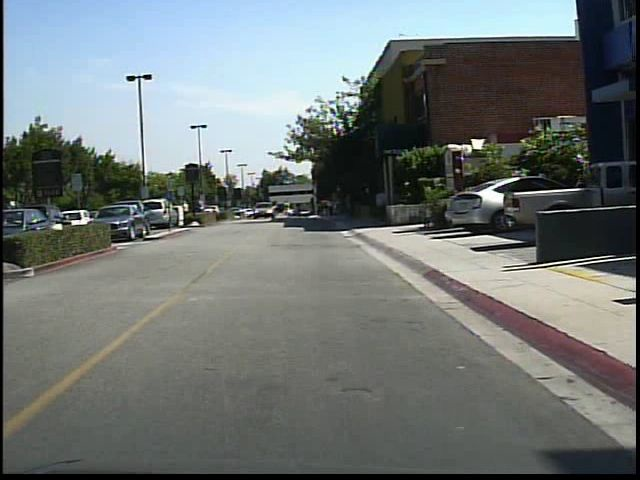person: (176, 194, 193, 225), (278, 196, 293, 223)
